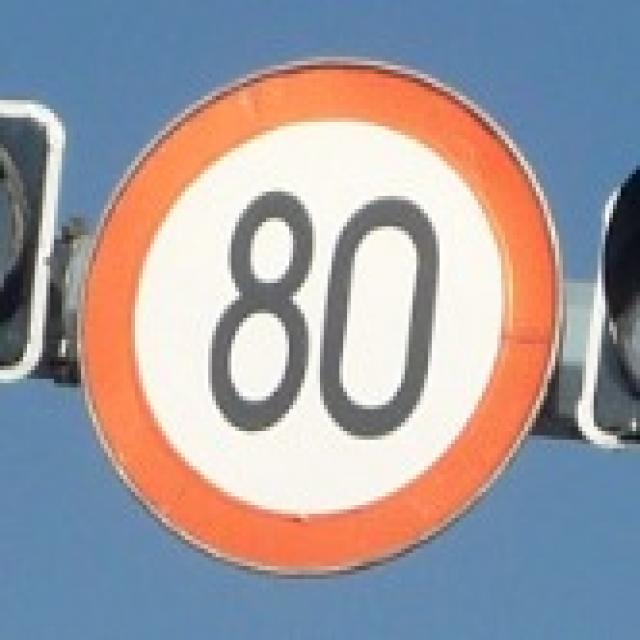Speed Limit -80-: (204, 185, 441, 439)
